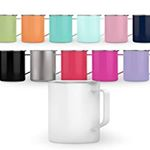cups: (46, 79, 112, 146)
